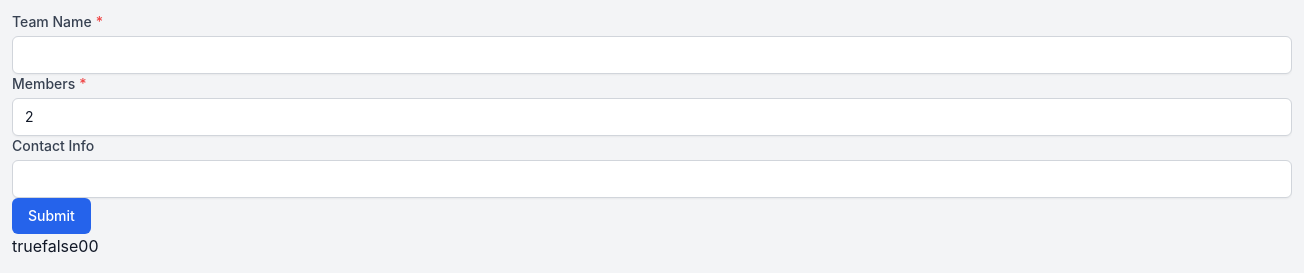
Scenario: Form Validation › Form State Management › should track form state correctly
Check: the text with test id "is-valid" reads "true", box [12,236,42,256]
Check: the text with test id "is-dirty" reads "false", box [42,236,78,256]
Note: After typing
Type "Test" into the field with test id "name-input" at (652, 55), box [12,36,1292,74]
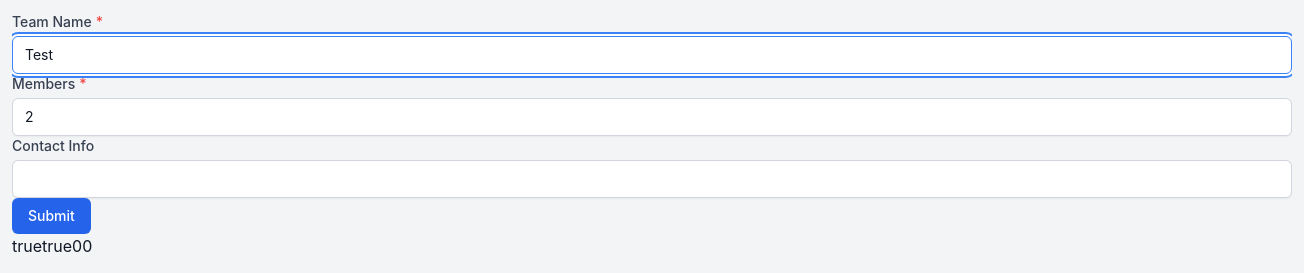
Check: the text with test id "is-dirty" reads "true", box [42,236,72,256]
